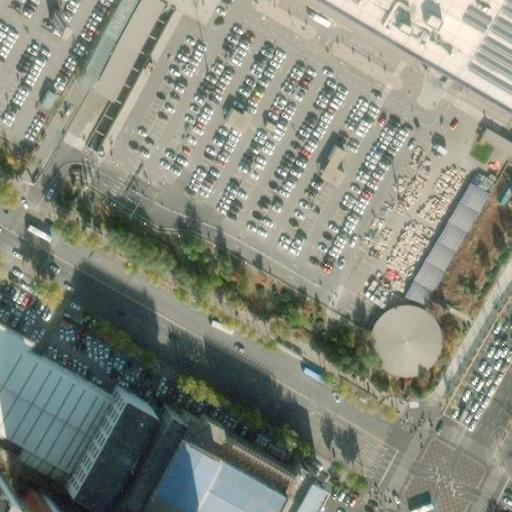building: (126, 409, 343, 512), (0, 313, 109, 463), (58, 383, 146, 498), (360, 296, 435, 371), (6, 481, 76, 512)
